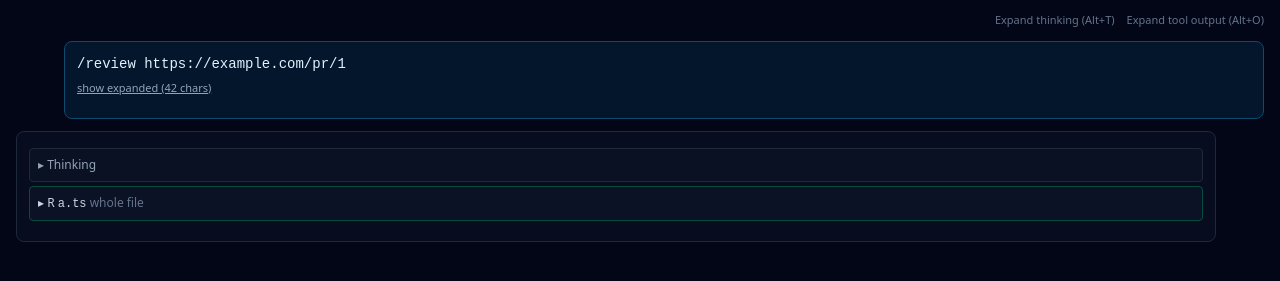
Scenario: command echo and collapse toggles › [15-commands-and-input#6.2] renders the typed command with a show-expanded disclosure
The width and height of the screenshot is (1280, 281).
Expected: the text "/review https://example.com/pr/1" does not show "carefully"
Click the button "show expanded (42 chars)" at [144, 88], box [77, 80, 211, 96]
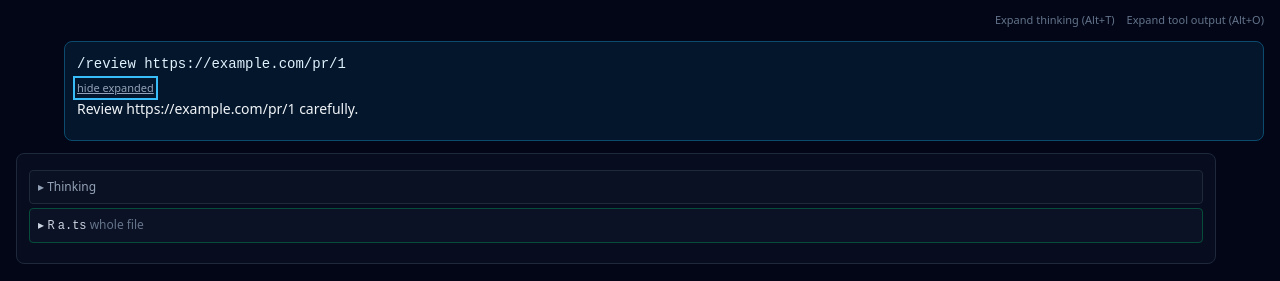
Now the text "/review https://example.com/pr/1" shows "carefully.", box [296, 98, 358, 118]
